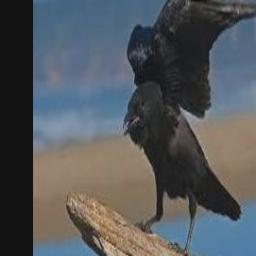Crow: (123, 0, 256, 256)
